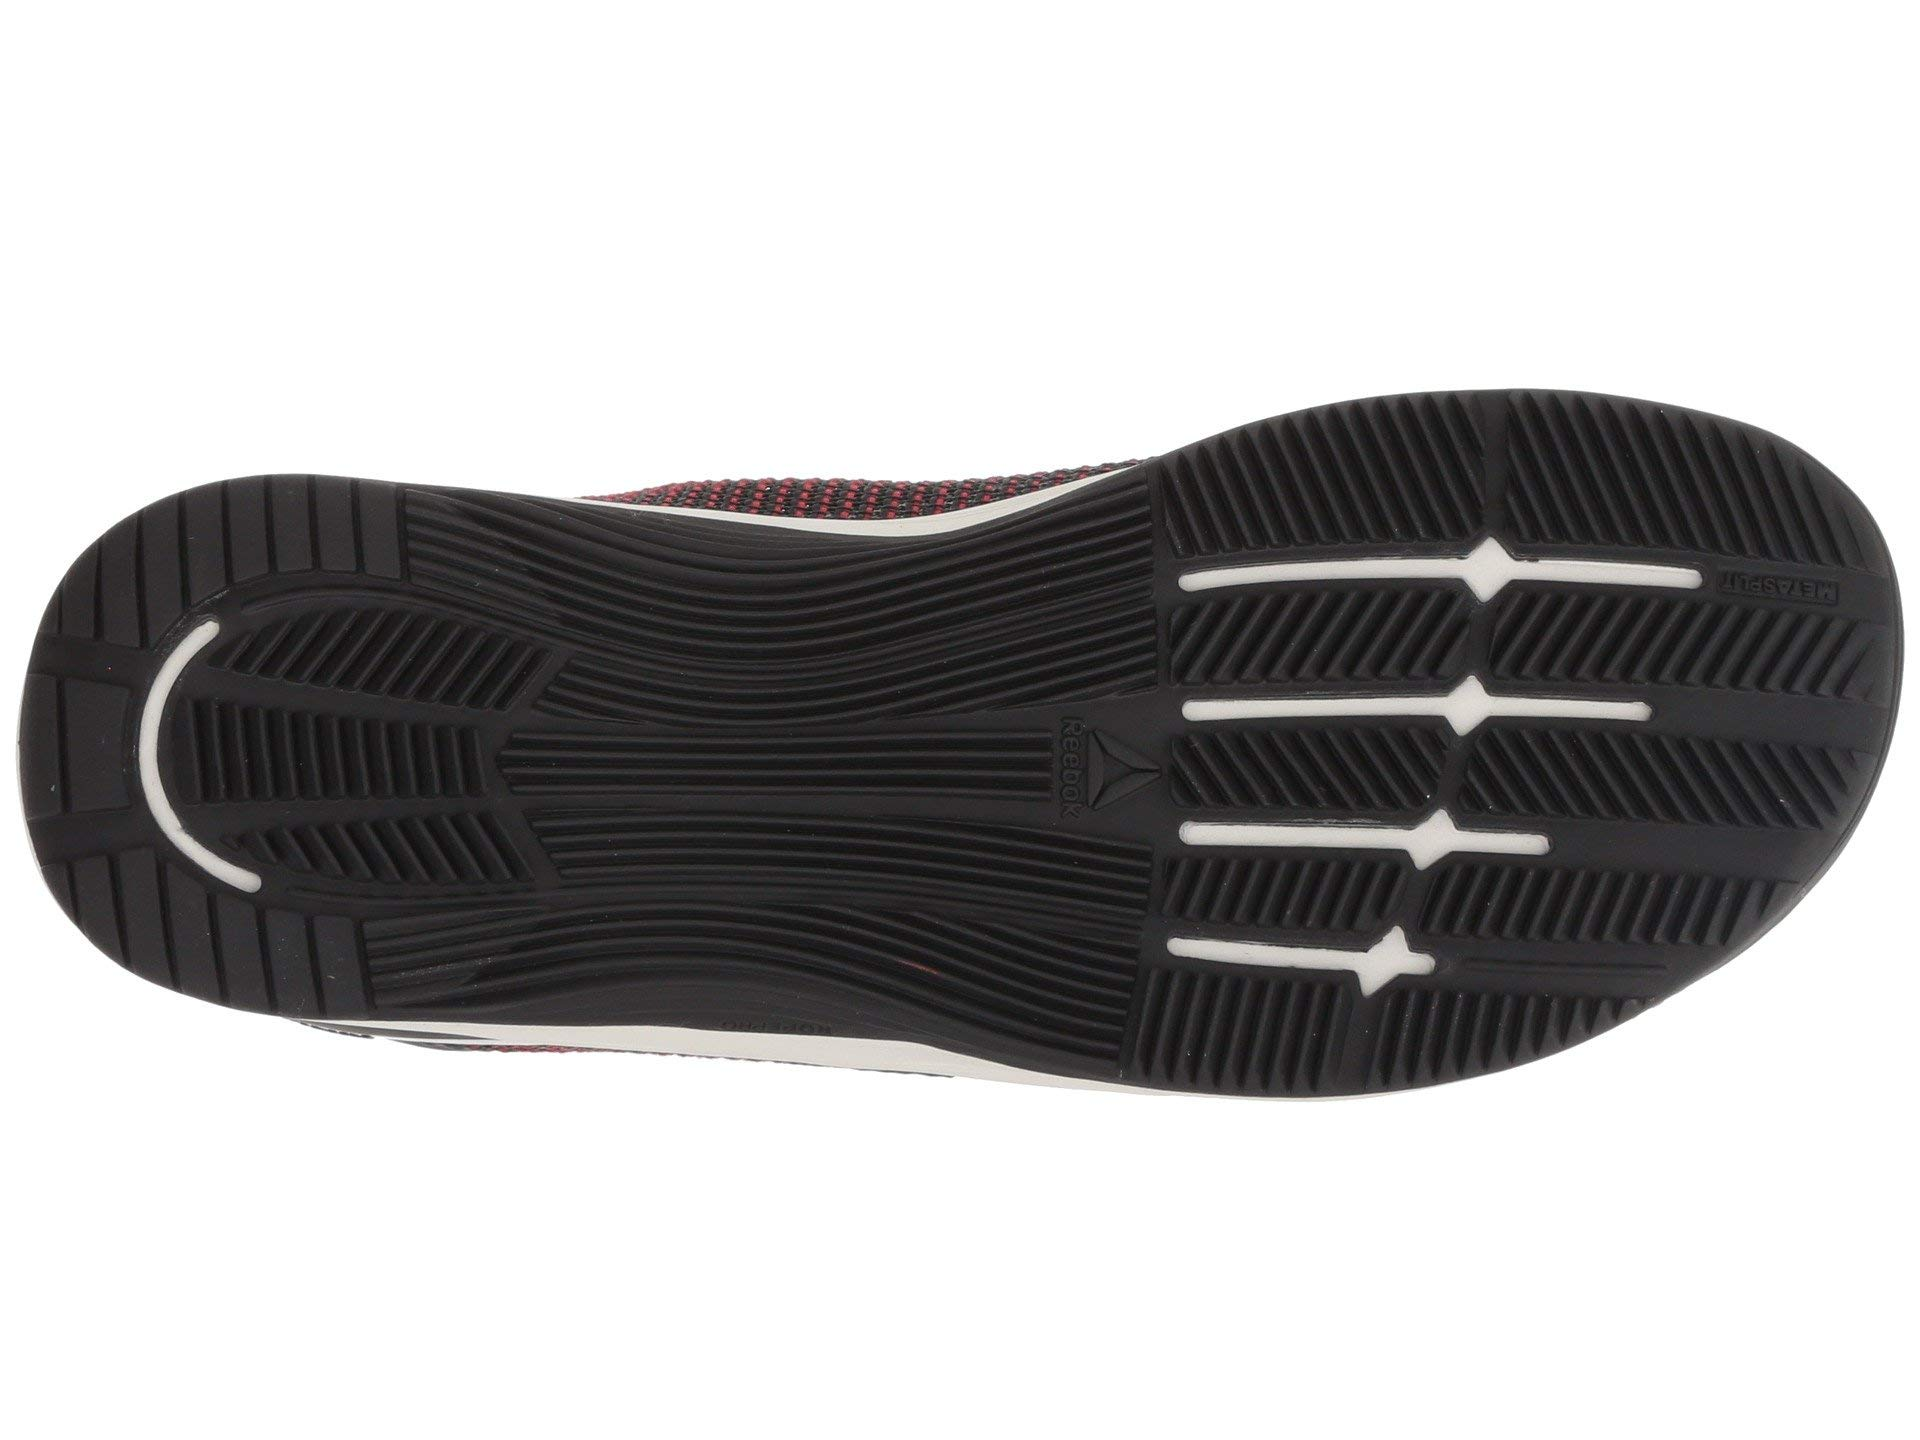line: (567, 548, 1008, 1038), (195, 611, 496, 868), (1290, 411, 1720, 535), (1714, 557, 1863, 623)
quad: (195, 611, 496, 868), (141, 486, 414, 591), (1714, 557, 1863, 623)
star: (1043, 678, 1157, 844)
text: (1043, 678, 1157, 844), (1714, 557, 1863, 623)
triangle: (1043, 678, 1157, 844)
